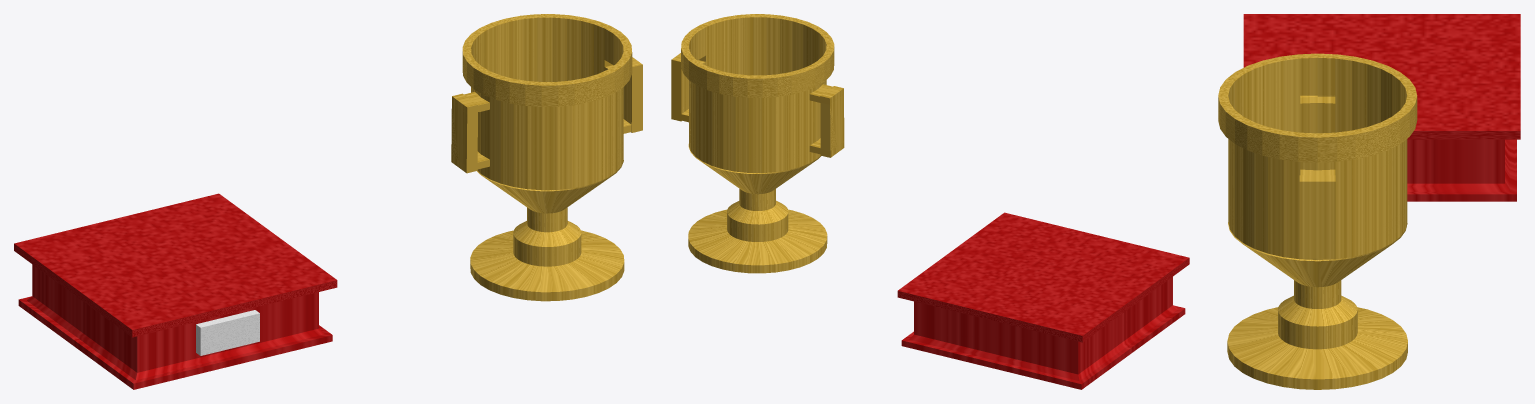
The model's file is podio.obj.
3 renders of one model, left to right at view 1: azimuth 30°, elevation 25°; view 2: azimuth 150°, elevation 25°; view 3: azimuth 270°, elevation 25°, orthographic. The views are drawn at different scales.
Parts seen in each view (by area): view 1: Cilindro, Cubo, Cubo.001; view 2: Cubo, Cilindro; view 3: Cilindro, Cubo.
Part boxes in pixels (<box>): Cilindro: <box>451,14,642,301</box>; Cubo: <box>14,193,337,389</box>; Cubo.001: <box>196,310,259,355</box>; Cubo: <box>897,212,1189,389</box>; Cilindro: <box>671,14,844,273</box>; Cilindro: <box>1218,53,1417,389</box>; Cubo: <box>1243,14,1520,201</box>.
Bounding box in the file's own units: 7.26 × 2.84 × 3.04.
3 materials, 3 textured.
